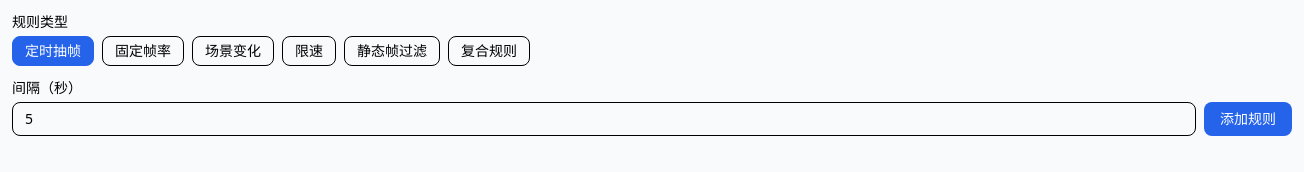
Scenario: RuleEditor › switches to threshold param for scene change
Step 1. Click the button "场景变化" → {"x": 233, "y": 51}, box [192,36,274,66]
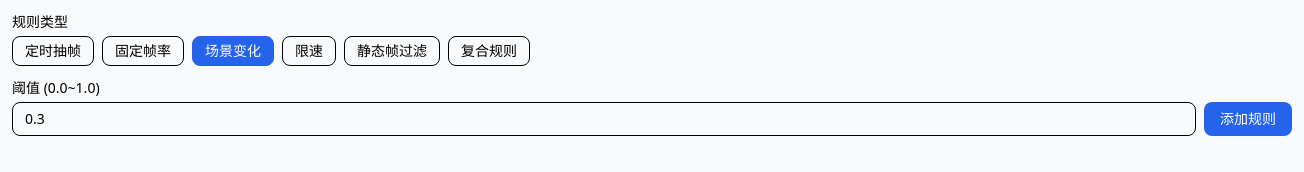
Expected: the text "阈值 (0.0~1.0)" is shown, [12,78,100,97]
Expected: the number field showing "0.3" is shown, [12,102,1196,136]
